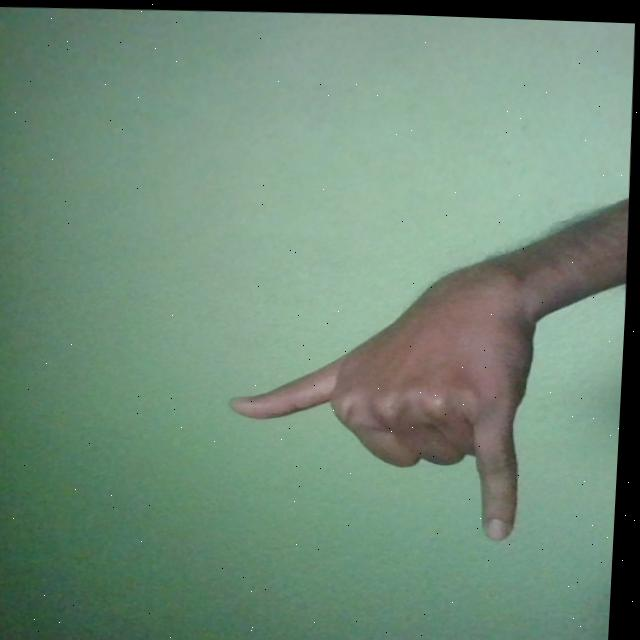Call Me: (225, 233, 547, 541)
